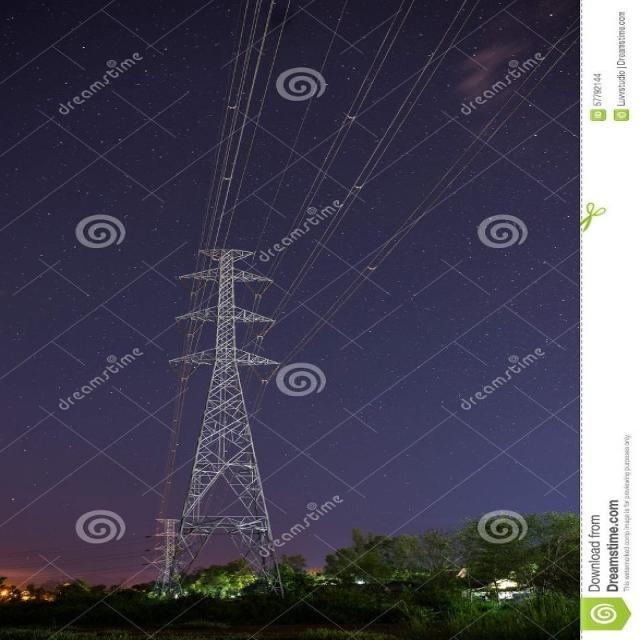non-critical vegetation: (178, 242, 286, 588)
